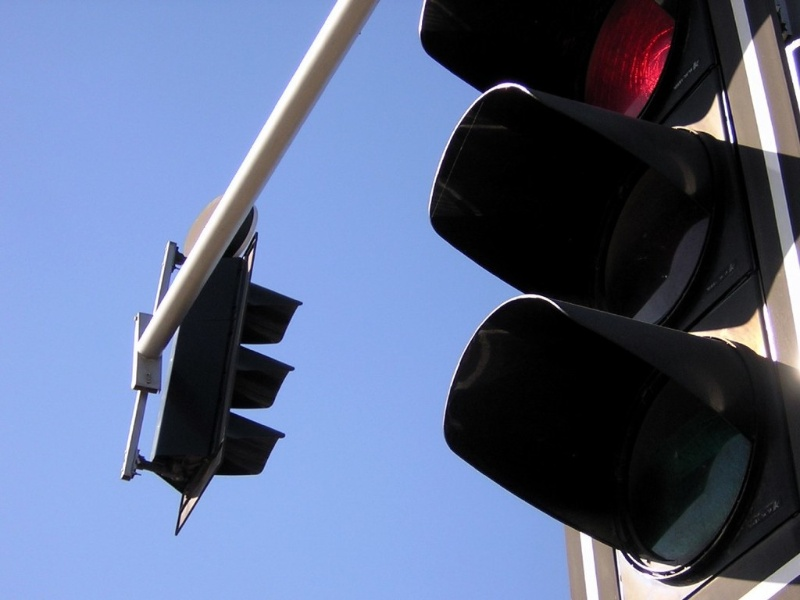red_light: (557, 9, 724, 119)
